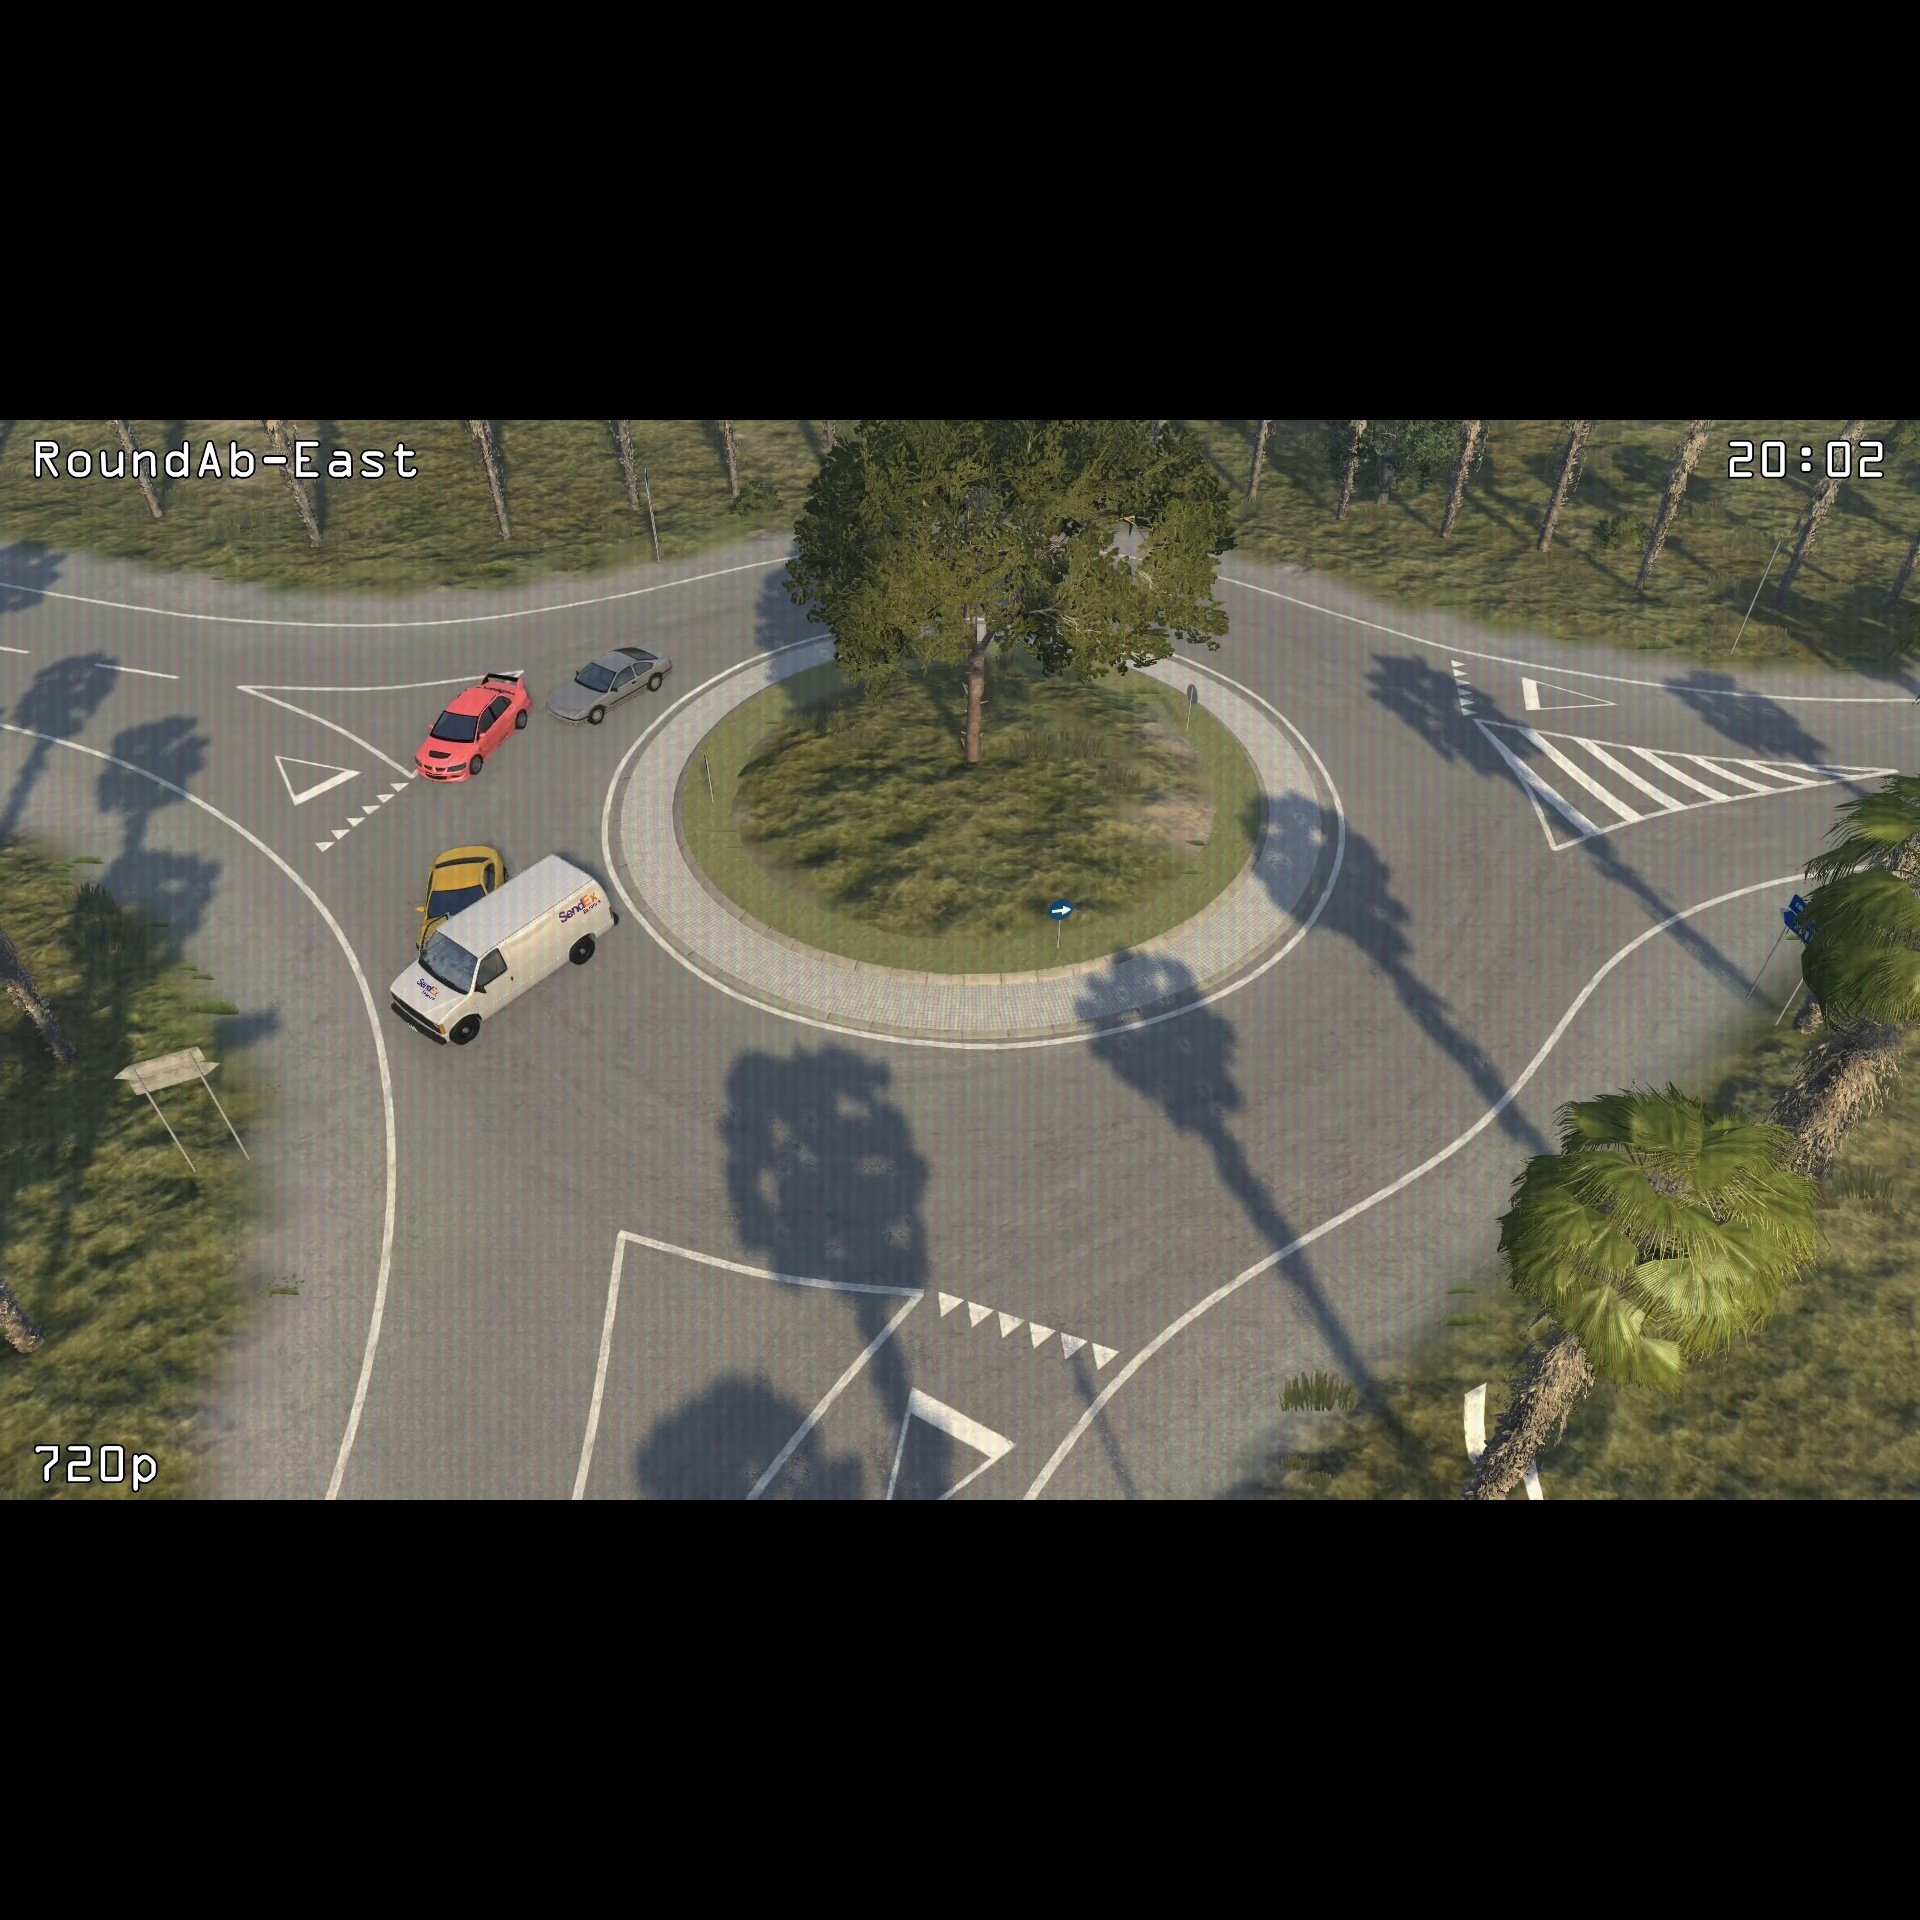vehicle: (385, 847, 619, 1053), (406, 668, 542, 789), (549, 629, 675, 733), (411, 837, 512, 951)
